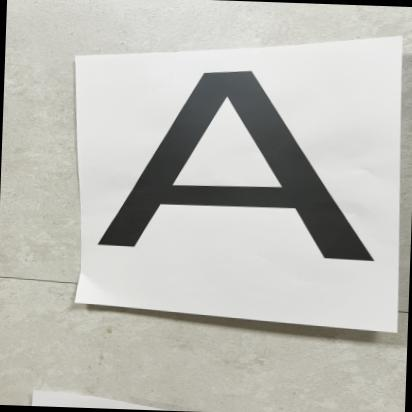seat: (85, 66, 402, 266)
